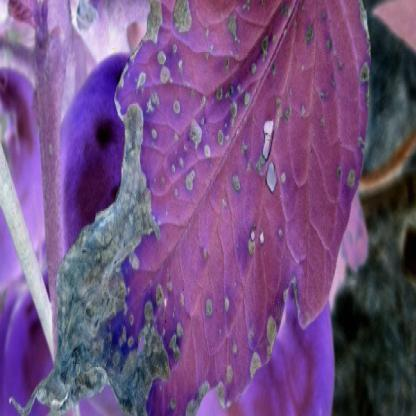Tomato Septoria leaf spot: (22, 7, 378, 414)
